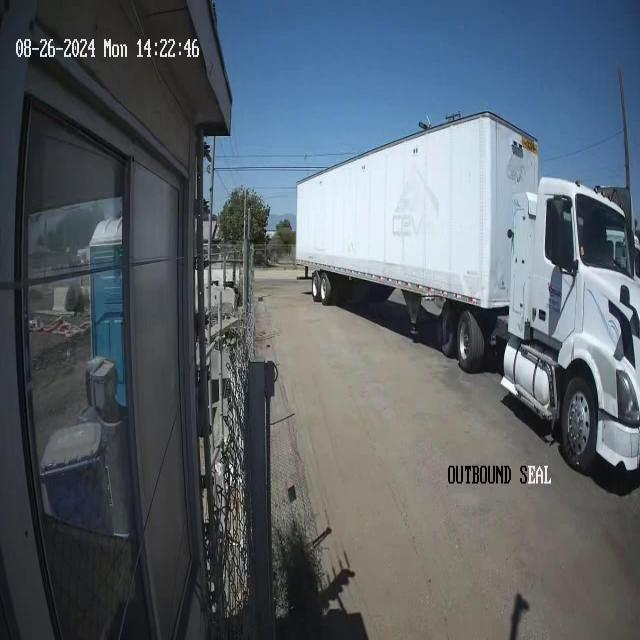TRUCK_CONTAINER: (294, 108, 640, 480)
